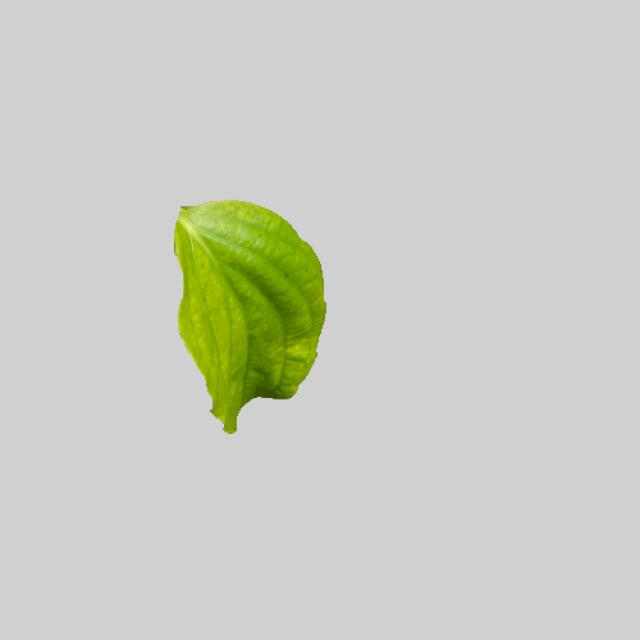yellow-mottle-virus: (170, 195, 328, 432)
